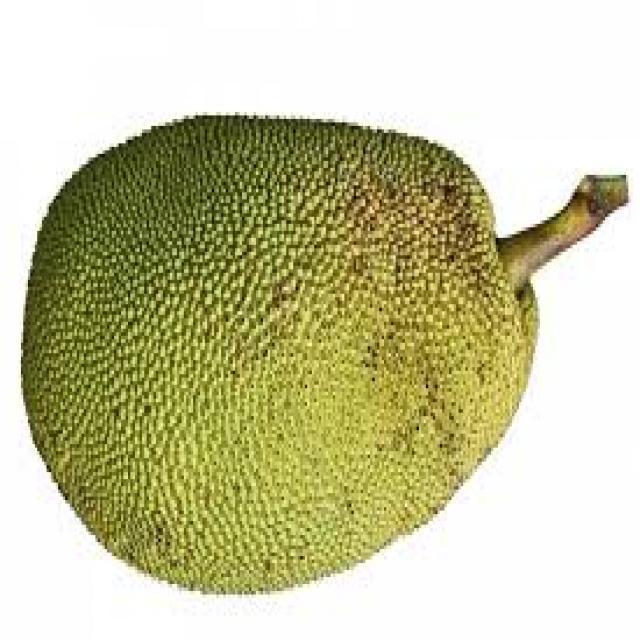organic waste: (19, 108, 628, 591)
